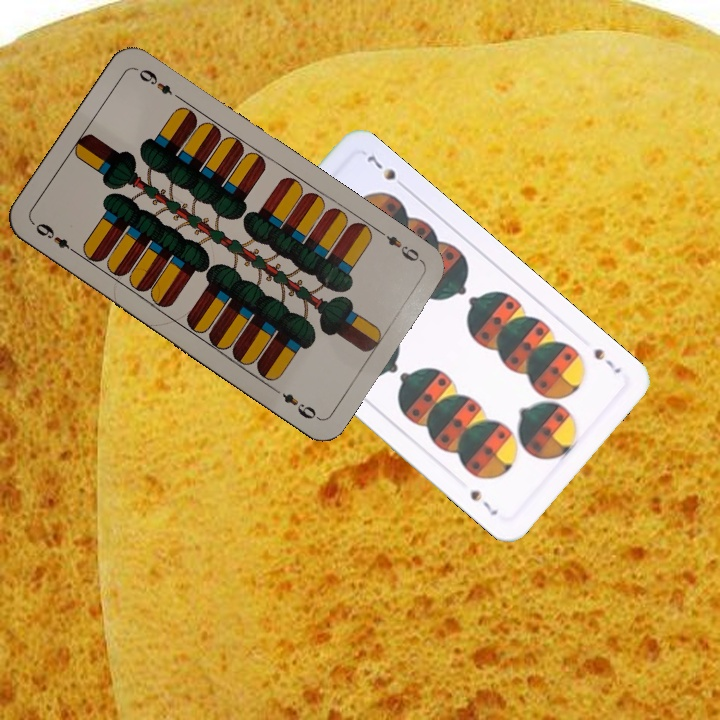E9: (375, 226, 426, 266), (31, 218, 81, 258)
S7: (589, 344, 624, 376)
